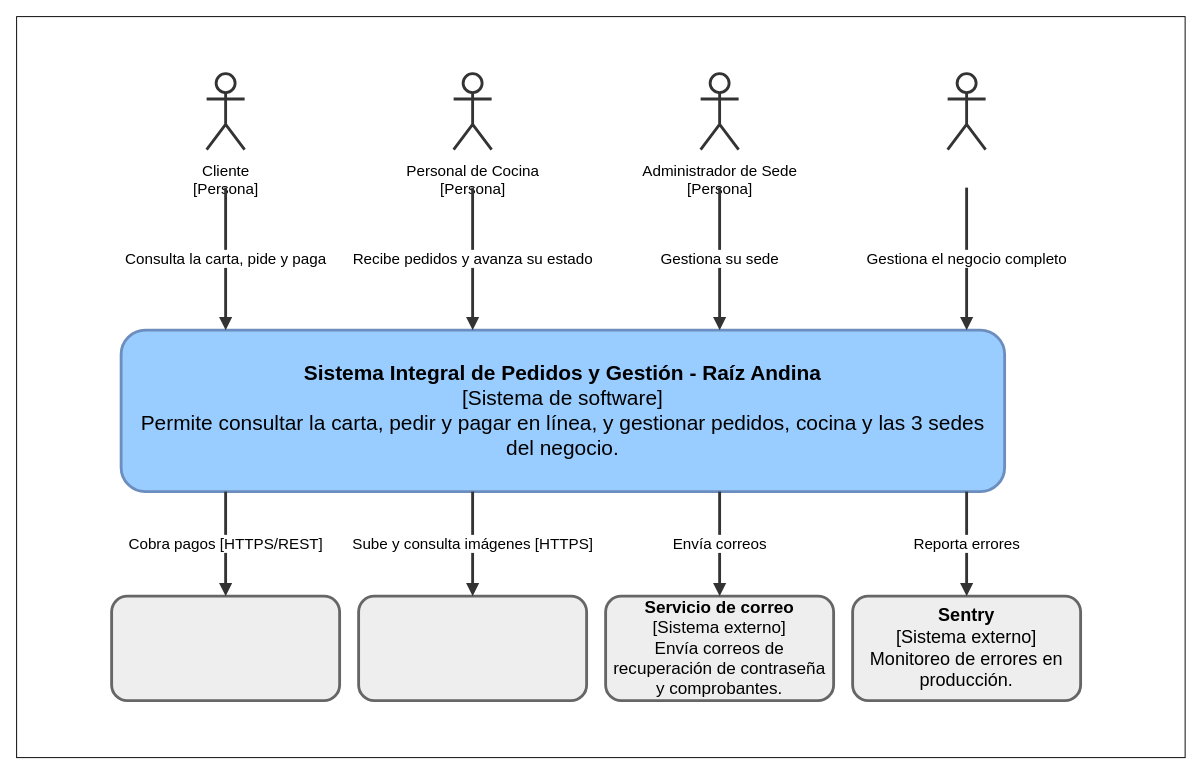
The diagram is 1202 pixels wide and 774 high, and some of its shapes have lost their labels. The shapes that lost their labels are listed below. From the top down, each one's centre as x and y in pixels, then its label:
At [966,111]: "Súper Administrador [Persona]".
At [225,648]: "Mercado Pago [Sistema externo] Pasarela de pago en línea.".
At [472,648]: "Cloudinary [Sistema externo] Almacena las imágenes de los productos.".
